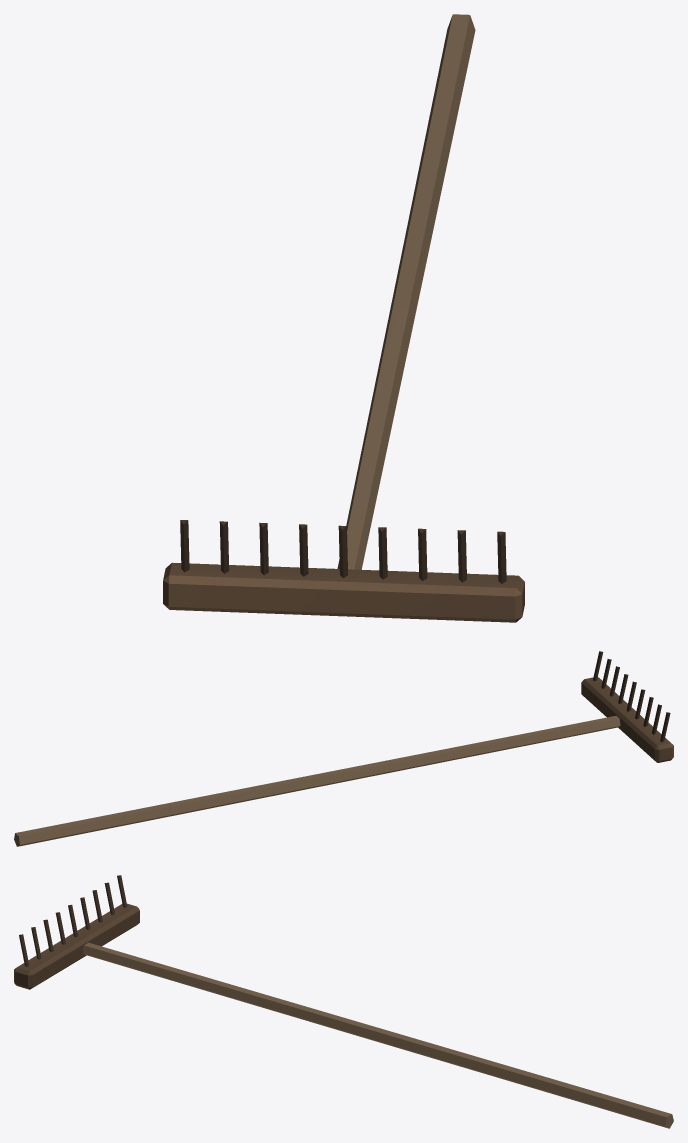
File: ph_item_apprentice_rake.glb
The picture shows the model from 3 angles, top to bottom: view 1: azimuth 30°, elevation 25°; view 2: azimuth 150°, elevation 25°; view 3: azimuth 270°, elevation 25°; orthographic projection. The views are drawn at different scales.
Parts seen in each view (by area): view 1: ph_item_apprentice_rake; view 2: ph_item_apprentice_rake; view 3: ph_item_apprentice_rake.
Boxes of the visible parts, <box> form: ph_item_apprentice_rake: <box>163,14,524,622</box>; ph_item_apprentice_rake: <box>14,651,673,846</box>; ph_item_apprentice_rake: <box>14,875,673,1128</box>.
Size of the model in its own units: 0.2837 by 0.0299 by 0.3707.
